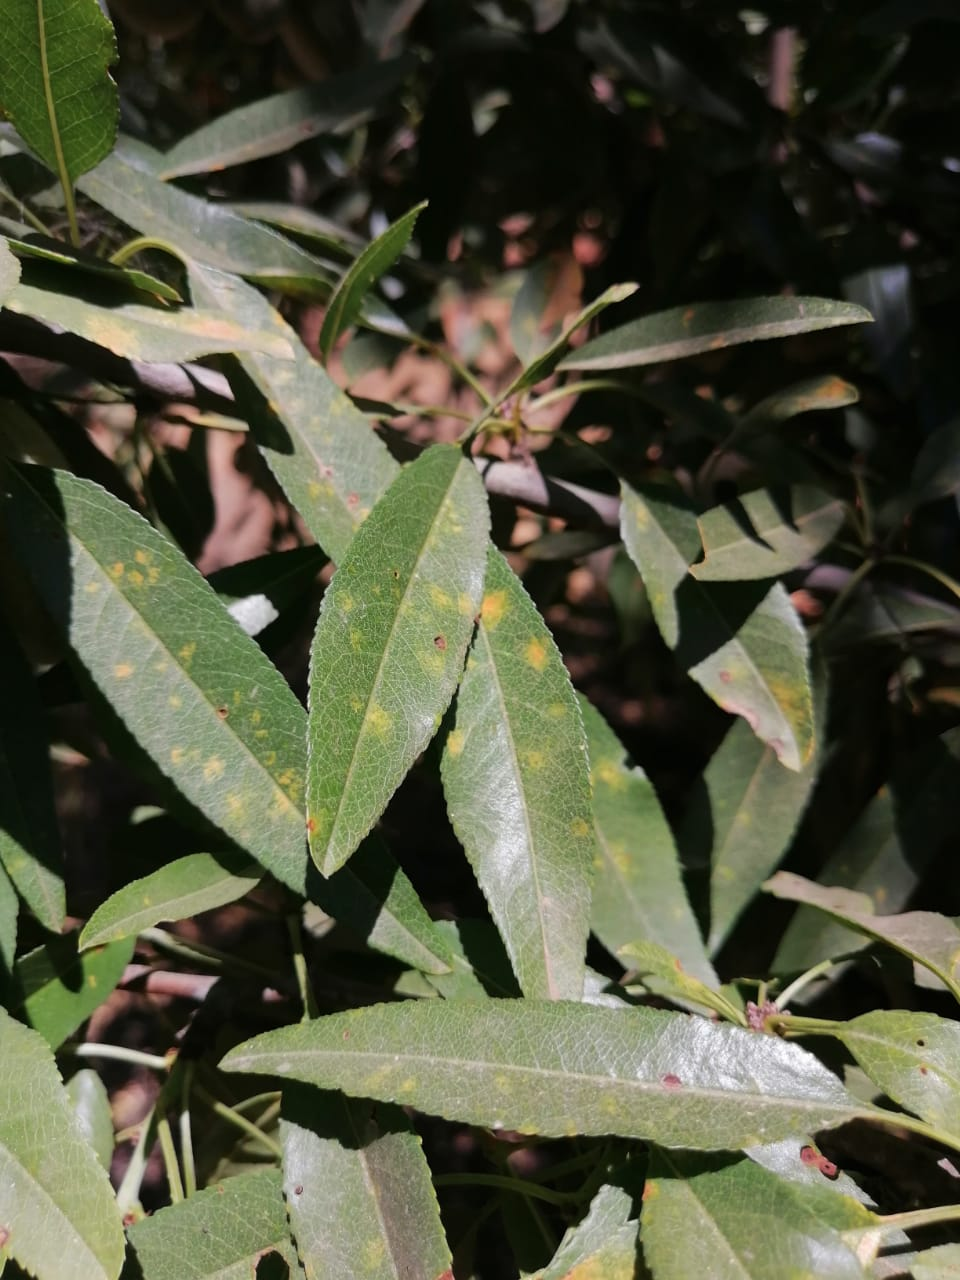polystigma: (17, 463, 452, 972), (215, 994, 861, 1157), (303, 444, 495, 877), (438, 533, 599, 1000), (615, 472, 818, 777)
